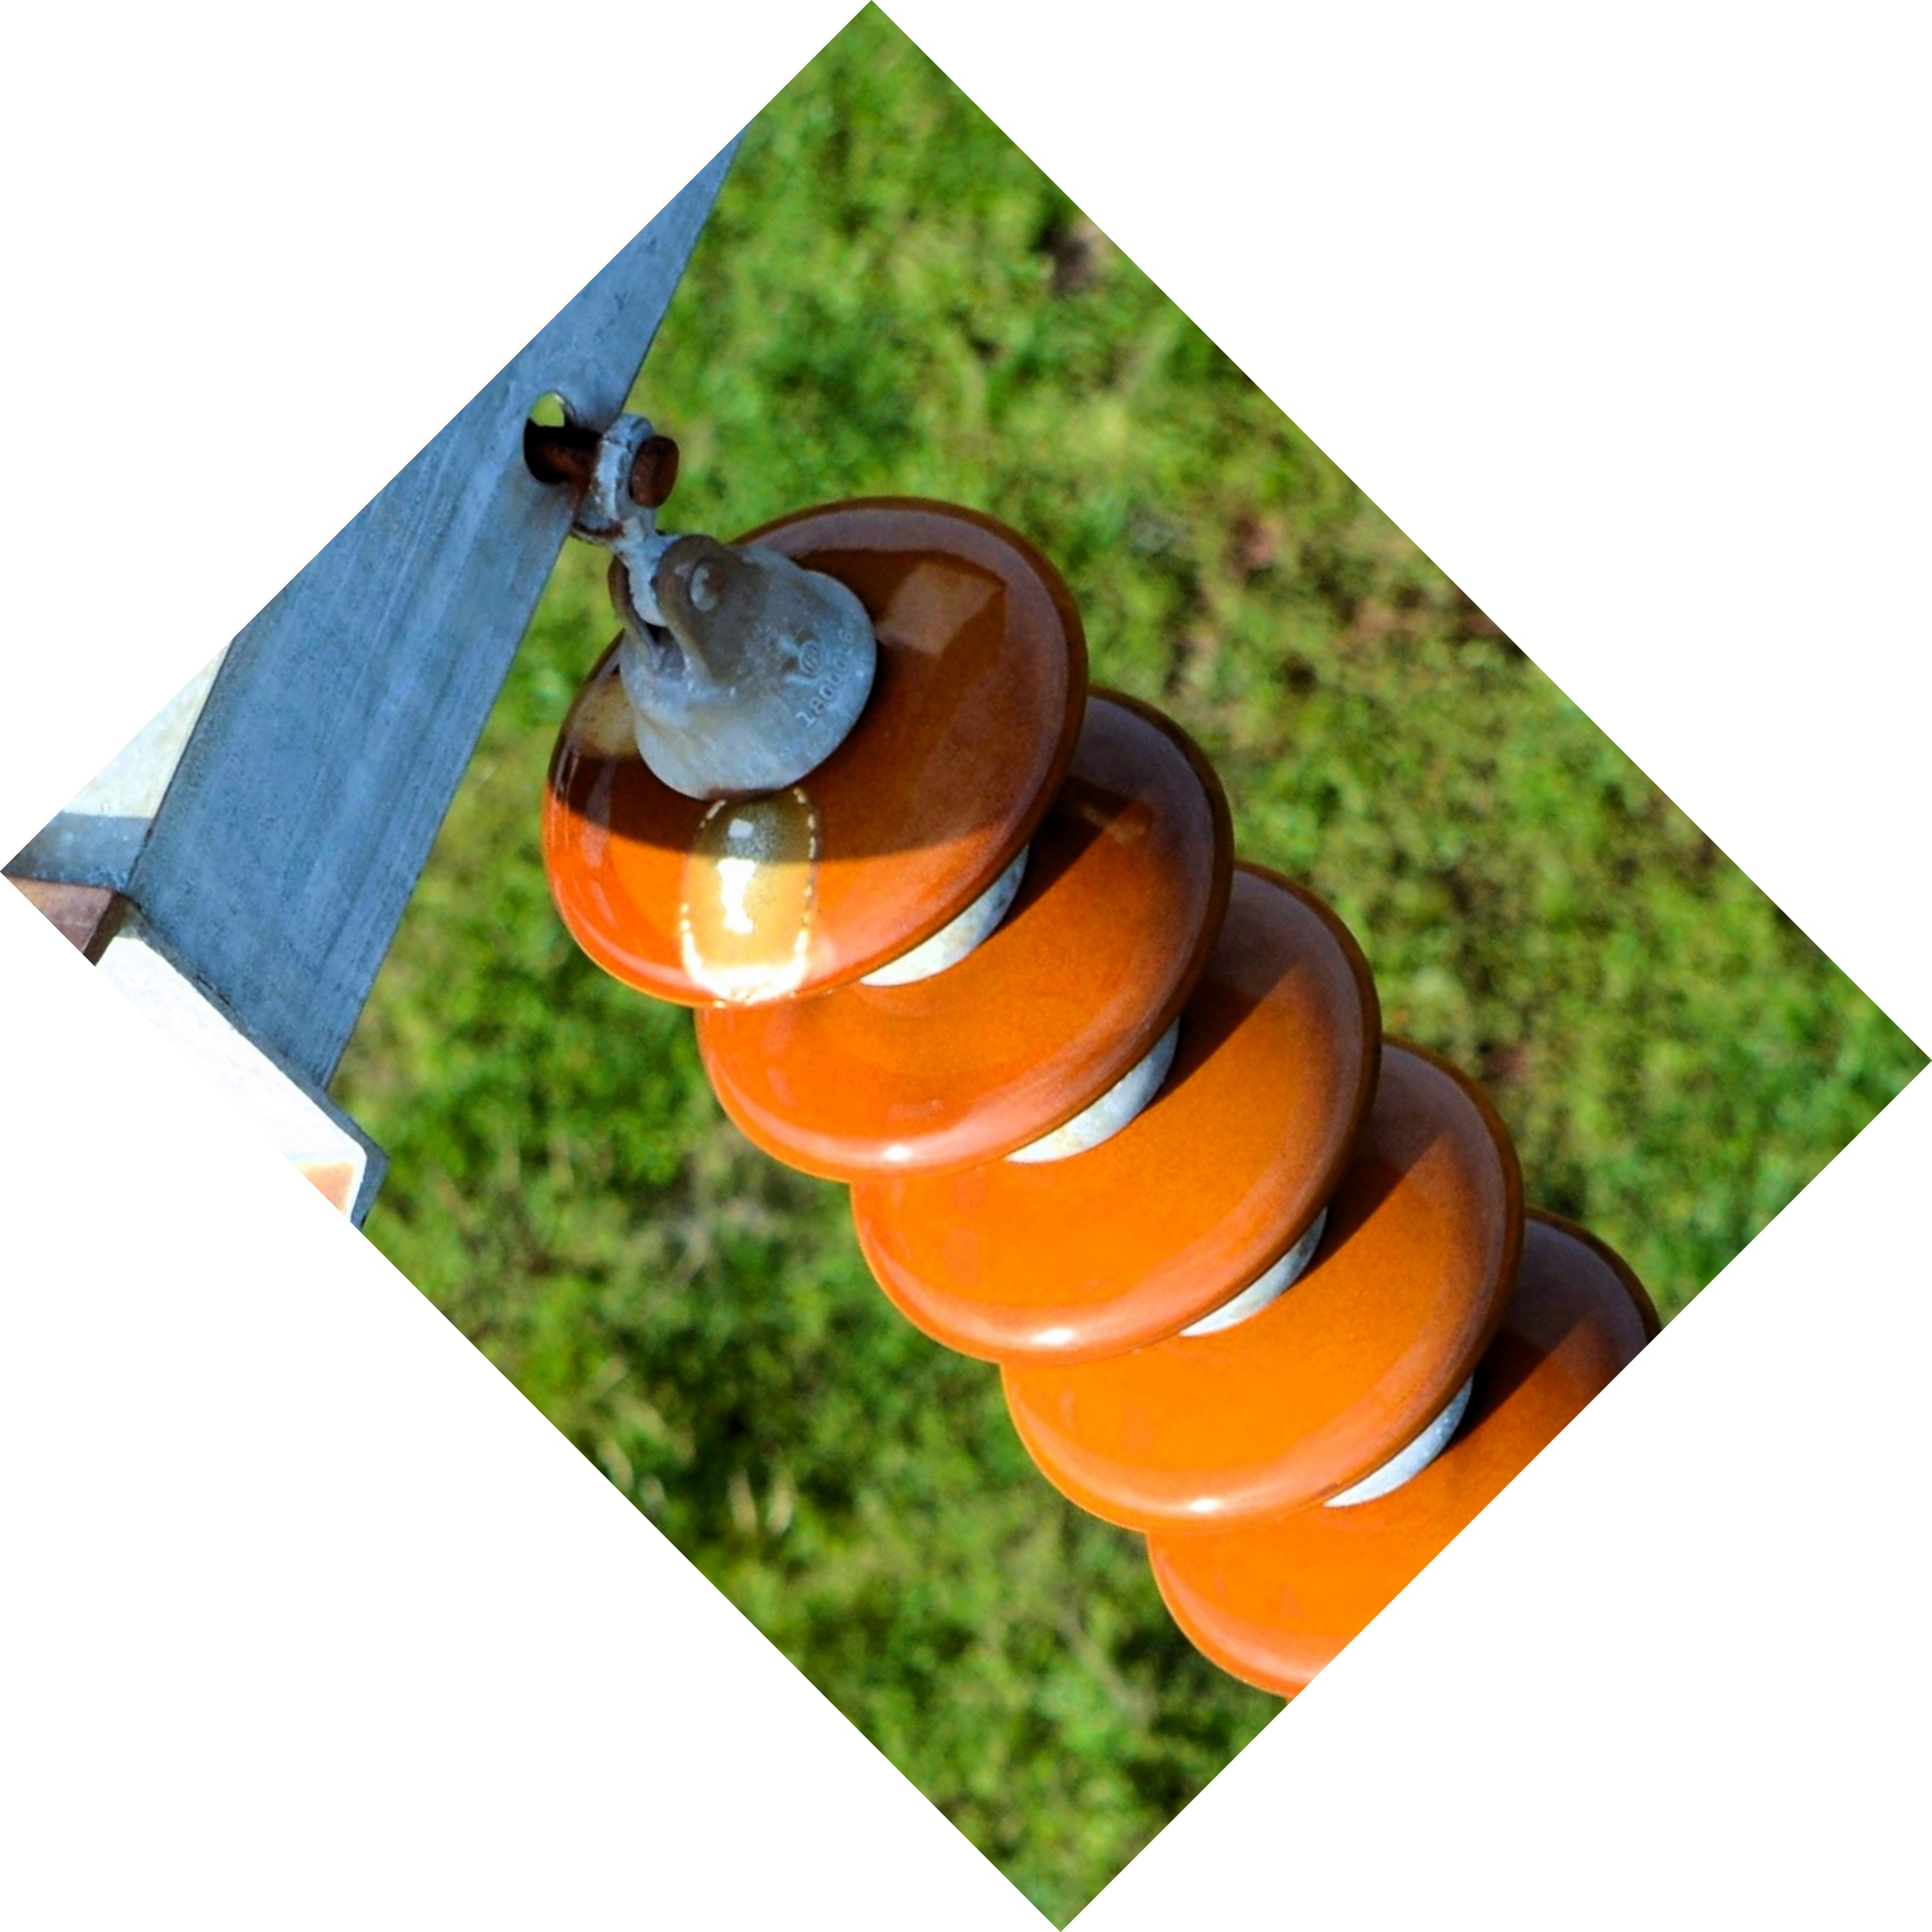Insulator flashover: (525, 487, 1095, 1014)
